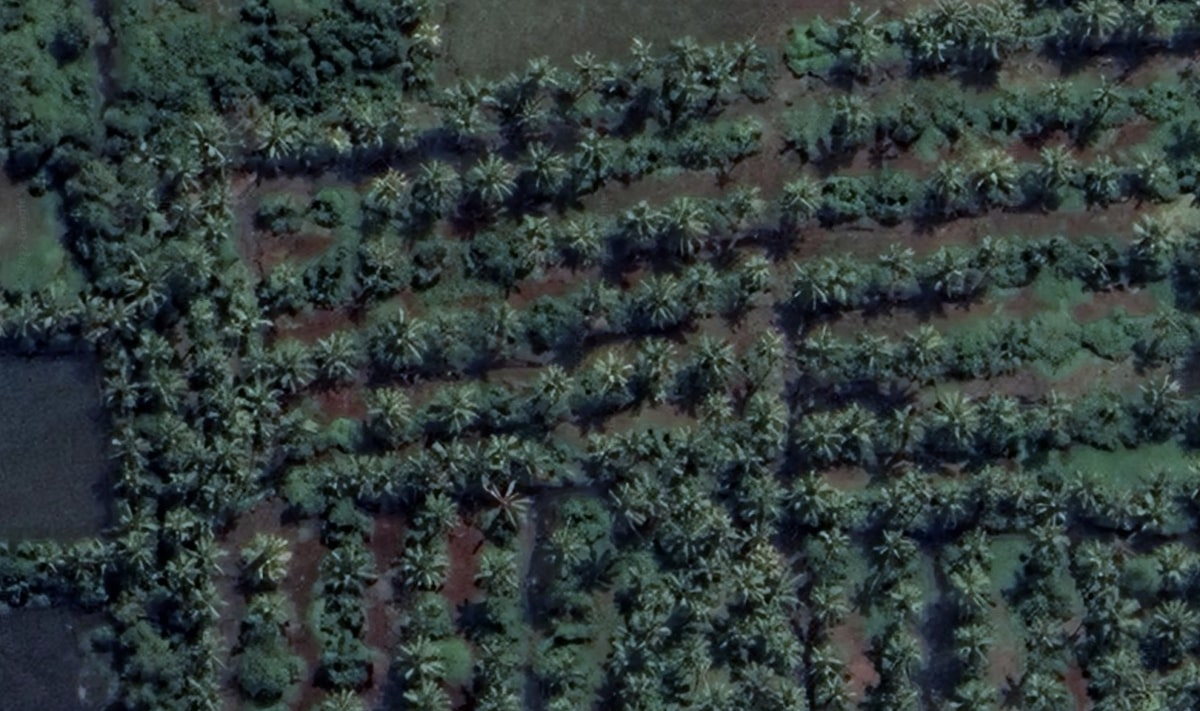coconut: (463, 150, 519, 210), (928, 389, 984, 448), (796, 405, 851, 464), (412, 158, 462, 221), (240, 529, 293, 588), (660, 191, 708, 256), (377, 312, 428, 373), (390, 547, 459, 591), (676, 265, 728, 322), (1149, 597, 1200, 655), (562, 125, 613, 182), (942, 566, 1000, 616), (582, 348, 634, 403), (242, 113, 301, 161), (322, 545, 379, 593), (390, 634, 450, 679), (516, 141, 565, 195), (521, 360, 572, 411), (604, 479, 648, 537), (787, 474, 839, 520), (103, 422, 156, 467), (951, 623, 999, 672), (425, 383, 476, 429), (122, 265, 169, 314), (560, 214, 605, 265), (271, 344, 318, 391), (968, 144, 1015, 191), (314, 335, 362, 381), (473, 550, 521, 596), (476, 628, 522, 676), (482, 300, 527, 349), (364, 393, 411, 439), (1130, 211, 1177, 257), (797, 326, 841, 374), (902, 323, 948, 368), (636, 281, 680, 328), (486, 482, 530, 529), (805, 581, 850, 626), (100, 368, 148, 410), (109, 497, 157, 539), (872, 524, 918, 567), (849, 332, 896, 374), (1065, 468, 1108, 512), (397, 680, 458, 711), (622, 197, 662, 242), (724, 187, 769, 227), (790, 263, 832, 305), (514, 217, 554, 261), (808, 674, 855, 711), (1082, 156, 1122, 199), (691, 338, 735, 377), (933, 244, 969, 291), (780, 179, 822, 219), (814, 521, 853, 562), (367, 171, 404, 214), (750, 328, 791, 366), (1038, 142, 1071, 185), (882, 242, 918, 280), (932, 159, 962, 200), (1141, 374, 1177, 408), (737, 259, 774, 292), (165, 553, 202, 586), (1037, 393, 1071, 428), (196, 209, 229, 245), (811, 642, 845, 675), (120, 535, 153, 569), (1139, 147, 1168, 182), (837, 98, 865, 130)
